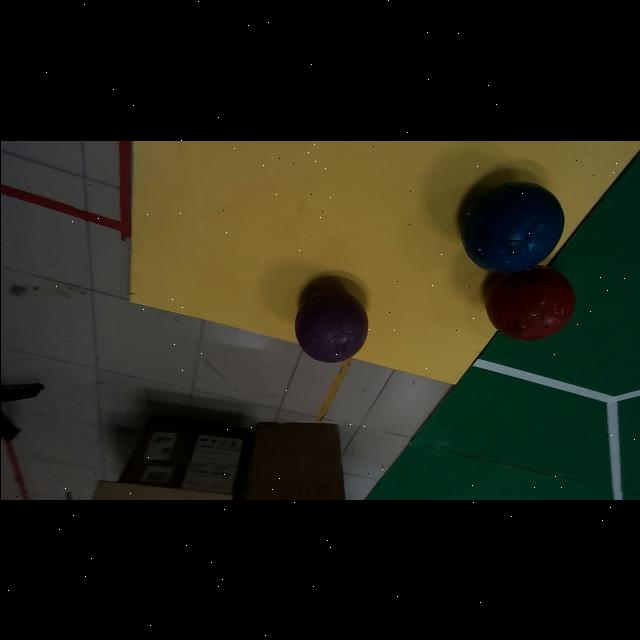B: (460, 182, 564, 273)
P: (294, 289, 366, 362)
R: (484, 267, 575, 341)
